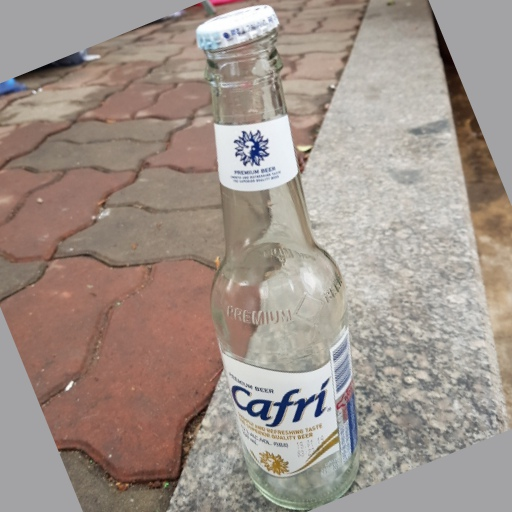Glass_1: (194, 4, 367, 511)
